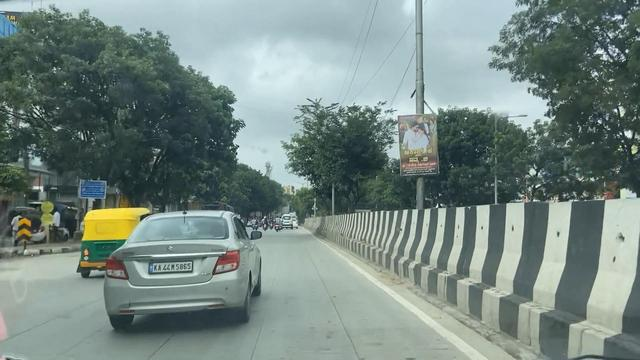LMV: (109, 200, 267, 321), (74, 206, 140, 271)
